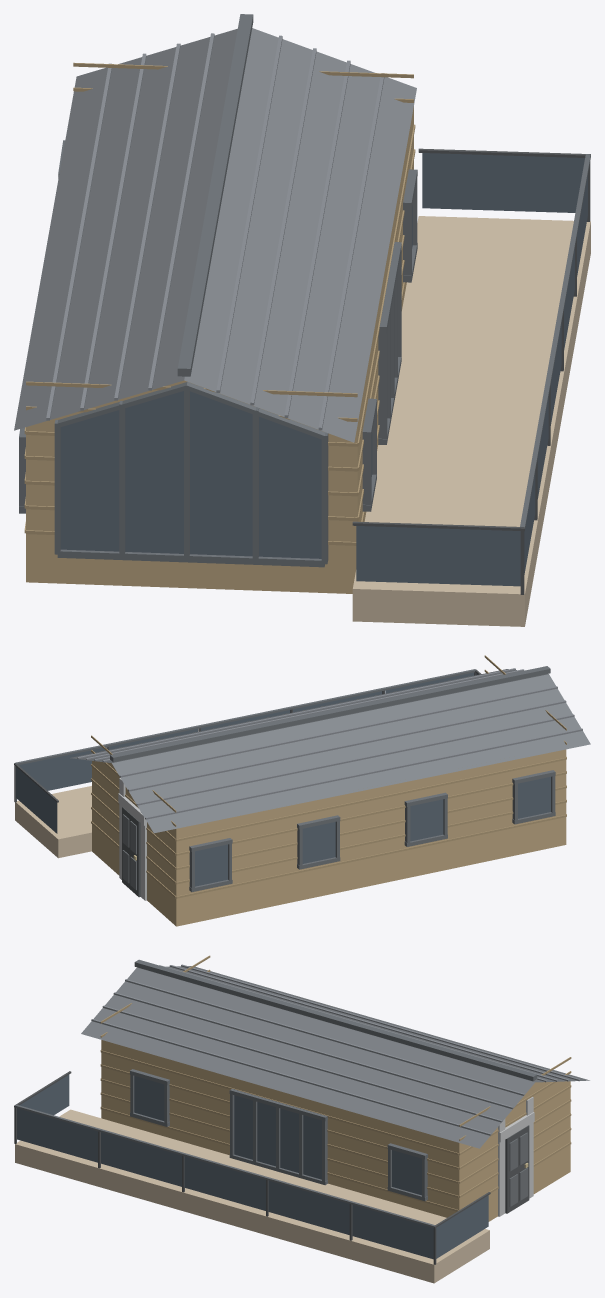
3 views of the same model, one above another, from view 1: azimuth 30°, elevation 25°; view 2: azimuth 150°, elevation 25°; view 3: azimuth 270°, elevation 25° (orthographic). The views are drawn at different scales.
Parts seen in each view (by area): view 1: slate, larch, window_glass_014, slate_dk, door_wood, slate_lt, window_glass_006, window_glass_007, door_wood_p, pipe; view 2: slate, door_wood, slate_dk, slate_lt, door_wood_p, larch, window_glass_005, window_glass_007, window_glass_017, window_glass_016, window_glass_015, window_glass_018 (+3 smaller); view 3: slate, door_wood, larch, slate_dk, slate_lt, door_wood_p, window_glass_004, window_glass_005, window_glass_003, window_glass_001, window_glass_002, window_glass_007 (+11 smaller).
Boxes of the visible parts, left/top/right/bottom form: slate: left=14, top=28, right=416, bottom=442; larch: left=352, top=216, right=590, bottom=626; window_glass_014: left=60, top=391, right=321, bottom=558; slate_dk: left=19, top=14, right=590, bottom=567; door_wood: left=26, top=106, right=413, bottom=593; slate_lt: left=46, top=33, right=384, bottom=430; window_glass_006: left=356, top=526, right=520, bottom=586; window_glass_007: left=422, top=153, right=584, bottom=212; door_wood_p: left=24, top=62, right=415, bottom=545; pipe: left=352, top=148, right=590, bottom=594; slate: left=70, top=669, right=590, bottom=833; door_wood: left=92, top=749, right=566, bottom=926; slate_dk: left=15, top=666, right=555, bottom=892; slate_lt: left=77, top=668, right=582, bottom=819; door_wood_p: left=91, top=655, right=566, bottom=898; larch: left=15, top=786, right=91, bottom=858; window_glass_005: left=19, top=747, right=105, bottom=790; window_glass_007: left=16, top=767, right=57, bottom=833; window_glass_017: left=410, top=799, right=443, bottom=841; window_glass_016: left=302, top=822, right=335, bottom=863; window_glass_015: left=195, top=844, right=227, bottom=886; window_glass_018: left=518, top=776, right=550, bottom=818; slate: left=81, top=966, right=589, bottom=1148; door_wood: left=101, top=1040, right=570, bottom=1221; larch: left=15, top=1109, right=489, bottom=1283; slate_dk: left=15, top=959, right=537, bottom=1227; slate_lt: left=91, top=964, right=580, bottom=1135; door_wood_p: left=100, top=955, right=571, bottom=1211; window_glass_004: left=268, top=1180, right=349, bottom=1234; window_glass_005: left=352, top=1205, right=433, bottom=1259; window_glass_003: left=184, top=1156, right=265, bottom=1210; window_glass_001: left=17, top=1108, right=97, bottom=1162; window_glass_002: left=101, top=1132, right=181, bottom=1186; window_glass_007: left=436, top=1195, right=488, bottom=1258.
Size of the model in its own units: 12.65 by 3.64 by 13.99.
